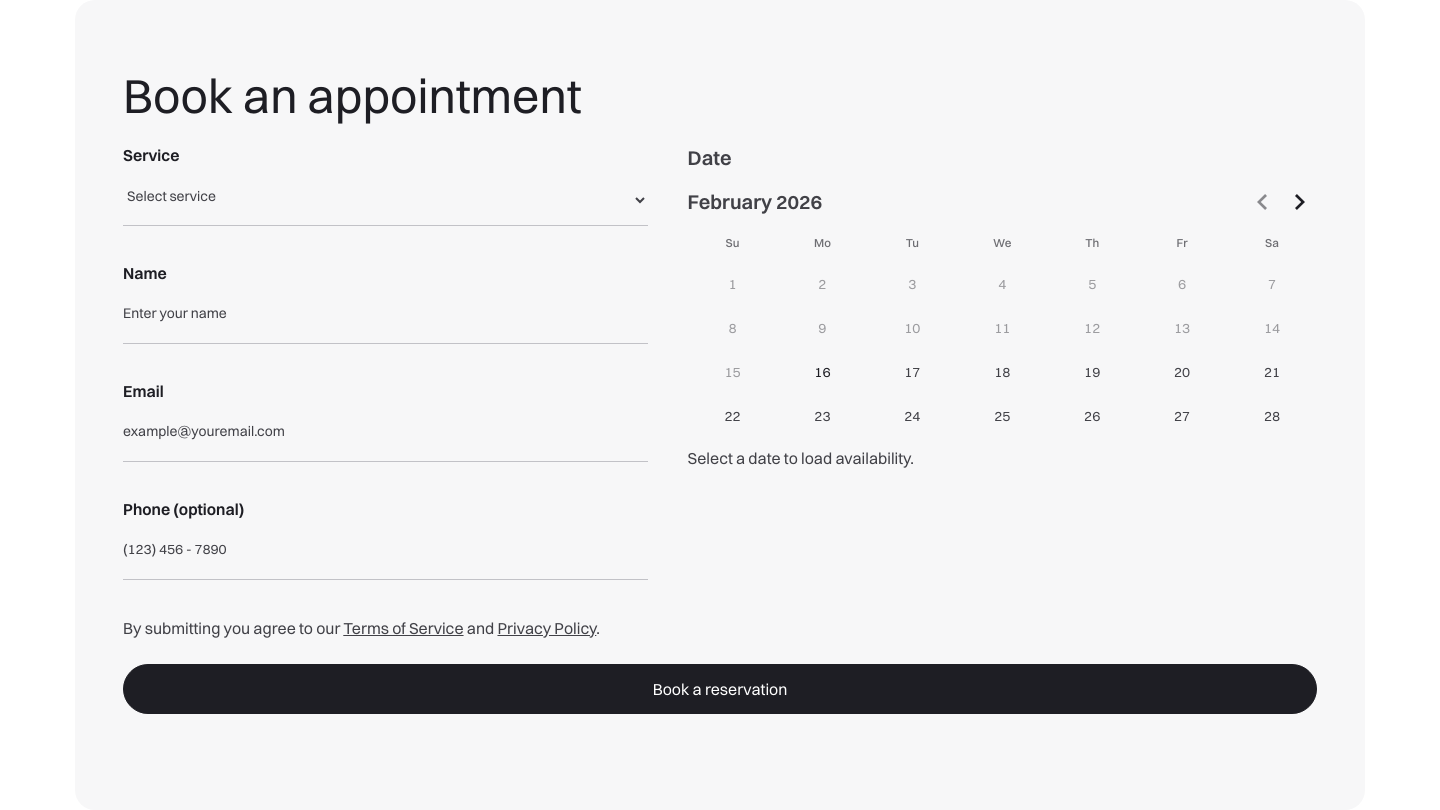
Test: Reservation page › hides the Time section until a date is selected
Expected: the element "Time" is not shown
Expected: the text "Select a date to load availability." is shown, [688,448,914,468]
Click the button "17": click(912, 372) [891,351,933,393]
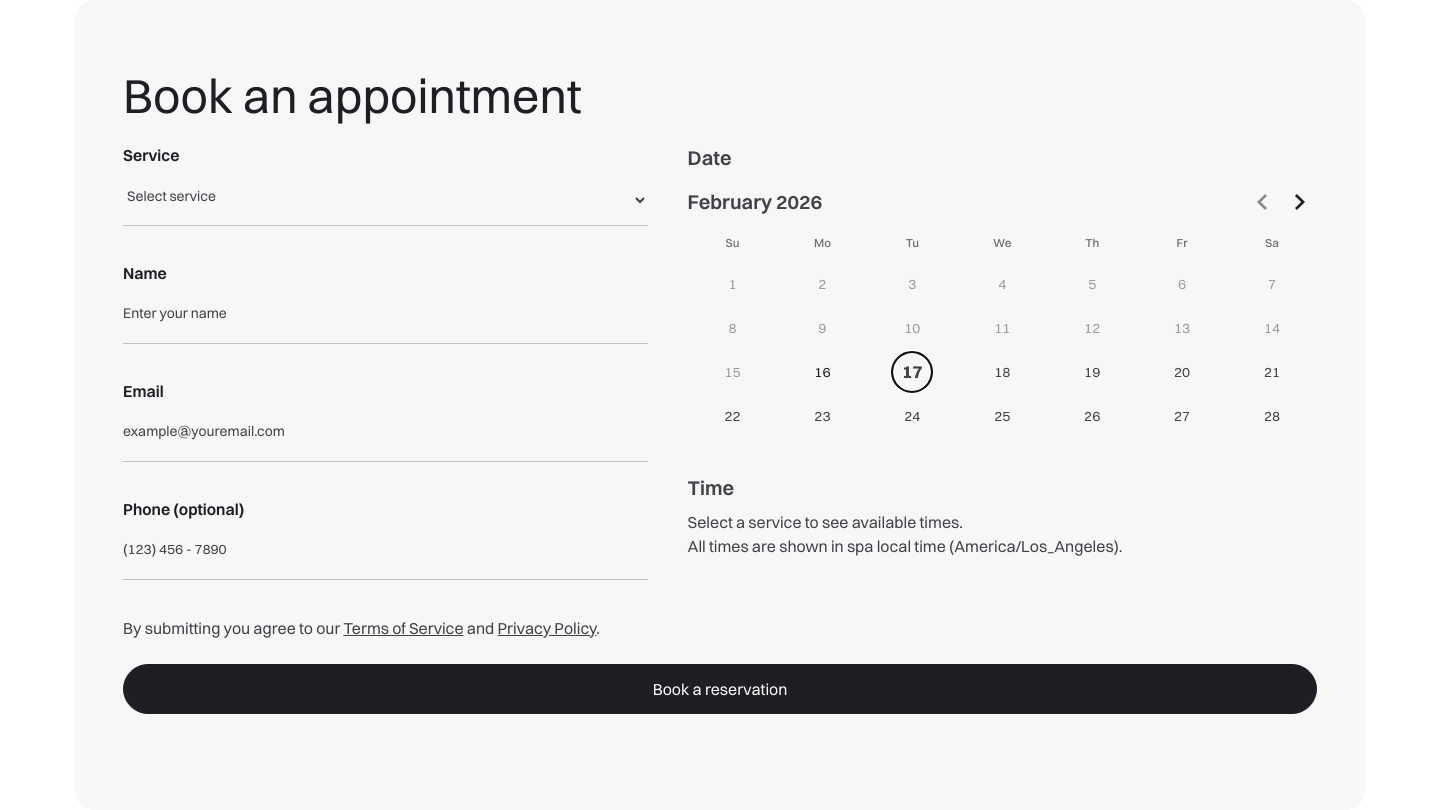
Expected: the element "Time" is shown, [688,475,1122,556]
Expected: the text "Select a date to load availability." is gone
